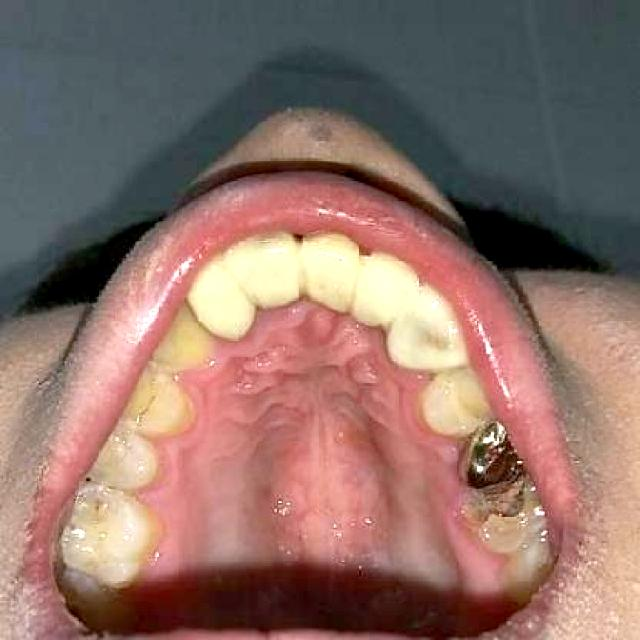Plaque: (459, 483, 527, 530), (131, 375, 161, 422), (85, 494, 108, 516), (65, 519, 83, 539)
